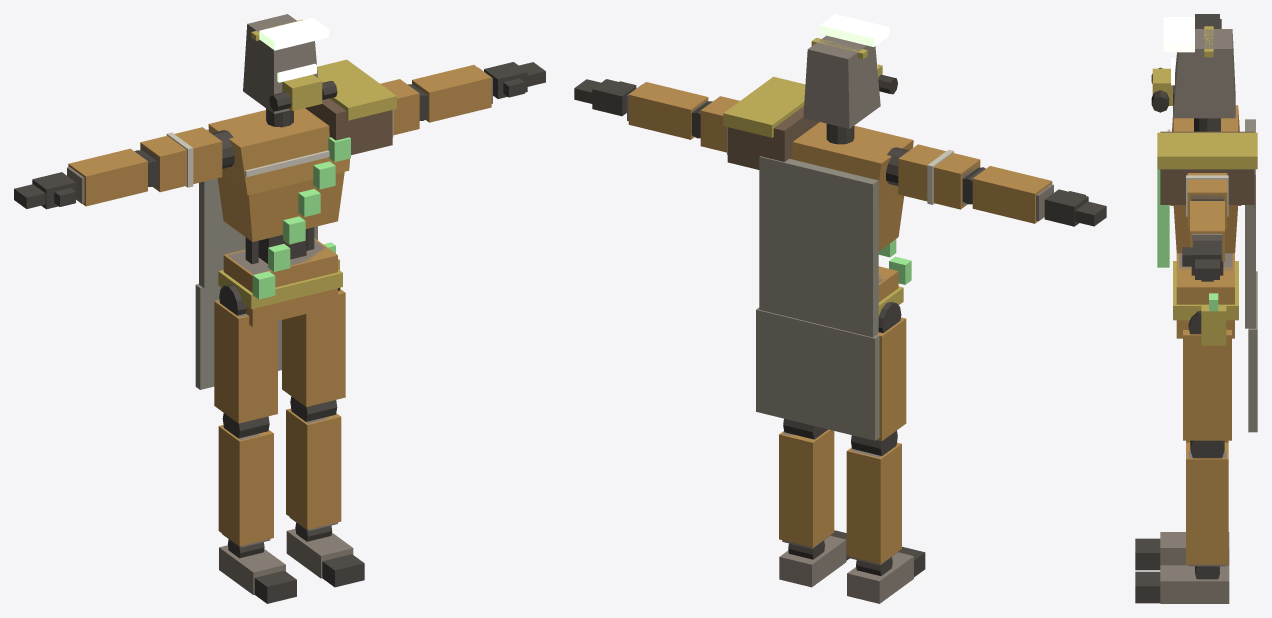
File: char_P_engineer.glb
3 renders of one model, left to right at view 1: azimuth 30°, elevation 25°; view 2: azimuth 150°, elevation 25°; view 3: azimuth 270°, elevation 25°, orthographic.
Parts seen in each view (by area): view 1: UpperChest_mesh, Hips_mesh, RightUpperLeg_mesh, Head_mesh, RightLowerLeg_mesh, LeftLowerLeg_mesh, Chest_mesh, LeftUpperLeg_mesh, LeftShoulder_mesh, RightLowerArm_mesh, RightUpperArm_mesh, LeftLowerArm_mesh (+8 smaller); view 2: UpperChest_mesh, Hips_mesh, Head_mesh, RightLowerLeg_mesh, LeftLowerLeg_mesh, LeftShoulder_mesh, RightLowerArm_mesh, RightUpperArm_mesh, RightUpperLeg_mesh, LeftLowerArm_mesh, LeftFoot_mesh, RightFoot_mesh (+4 smaller); view 3: Head_mesh, LeftShoulder_mesh, LeftLowerLeg_mesh, Hips_mesh, LeftUpperLeg_mesh, UpperChest_mesh, LeftFoot_mesh, Chest_mesh, LeftLowerArm_mesh, LeftUpperArm_mesh, LeftHand_mesh, RightFoot_mesh (+5 smaller).
Part boxes in pixels (bbox=[...]): UpperChest_mesh: bbox=[199, 108, 350, 288]; Hips_mesh: bbox=[195, 238, 342, 389]; RightUpperLeg_mesh: bbox=[214, 284, 277, 423]; Head_mesh: bbox=[243, 14, 337, 113]; RightLowerLeg_mesh: bbox=[218, 413, 273, 547]; LeftLowerLeg_mesh: bbox=[286, 396, 341, 531]; Chest_mesh: bbox=[217, 172, 344, 299]; LeftUpperLeg_mesh: bbox=[282, 288, 345, 406]; LeftShoulder_mesh: bbox=[305, 59, 396, 155]; RightLowerArm_mesh: bbox=[67, 148, 157, 206]; RightUpperArm_mesh: bbox=[140, 127, 222, 192]; LeftLowerArm_mesh: bbox=[408, 65, 492, 122]; UpperChest_mesh: bbox=[759, 122, 913, 337]; Hips_mesh: bbox=[756, 266, 903, 440]; Head_mesh: bbox=[803, 14, 897, 128]; RightLowerLeg_mesh: bbox=[846, 430, 901, 565]; LeftLowerLeg_mesh: bbox=[779, 418, 834, 548]; LeftShoulder_mesh: bbox=[723, 76, 819, 169]; RightLowerArm_mesh: bbox=[962, 166, 1053, 223]; RightUpperArm_mesh: bbox=[898, 144, 980, 209]; RightUpperLeg_mesh: bbox=[876, 302, 906, 441]; LeftLowerArm_mesh: bbox=[627, 82, 712, 139]; LeftFoot_mesh: bbox=[779, 535, 846, 587]; RightFoot_mesh: bbox=[847, 552, 913, 603]; Head_mesh: bbox=[1151, 17, 1235, 118]; LeftShoulder_mesh: bbox=[1157, 131, 1257, 204]; LeftLowerLeg_mesh: bbox=[1186, 440, 1228, 566]; Hips_mesh: bbox=[1173, 253, 1257, 432]; LeftUpperLeg_mesh: bbox=[1183, 310, 1231, 440]; UpperChest_mesh: bbox=[1157, 105, 1255, 328]; LeftFoot_mesh: bbox=[1160, 565, 1229, 603]; Chest_mesh: bbox=[1157, 206, 1237, 267]; LeftLowerArm_mesh: bbox=[1190, 199, 1224, 261]; LeftUpperArm_mesh: bbox=[1186, 173, 1228, 228]; LeftHand_mesh: bbox=[1182, 240, 1221, 279]; RightFoot_mesh: bbox=[1160, 532, 1229, 565].
Bounding box in the file's own units: 1.92 × 1.93 × 0.39.
